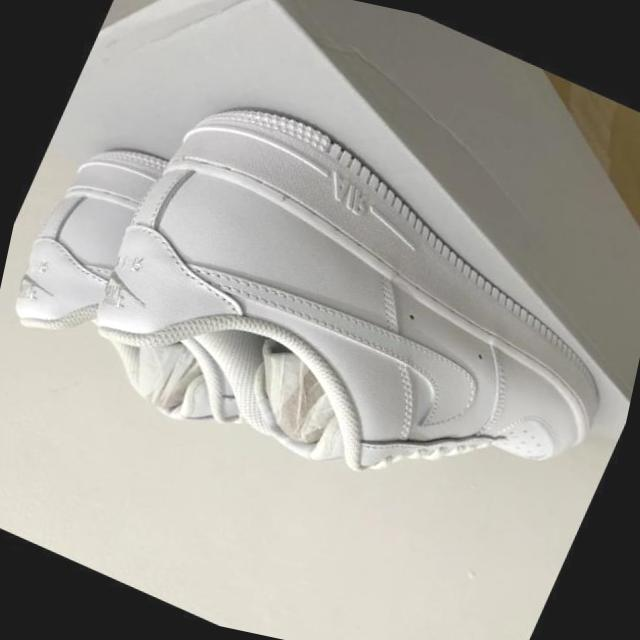nike_original_airforce: (44, 58, 640, 575), (0, 109, 393, 478)
